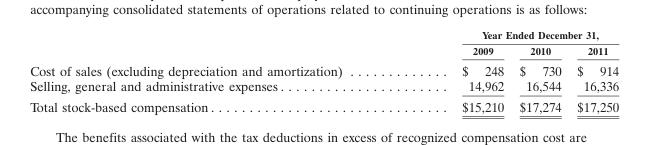table: (29, 28, 618, 114)
table column: (29, 28, 401, 114), (401, 28, 511, 114), (511, 28, 568, 114), (568, 28, 618, 114)
table column header: (29, 28, 618, 59)
table row: (29, 95, 618, 114), (29, 59, 618, 77), (29, 77, 618, 95), (29, 42, 618, 59), (29, 28, 618, 42)
table spanning cell: (401, 28, 618, 42)
